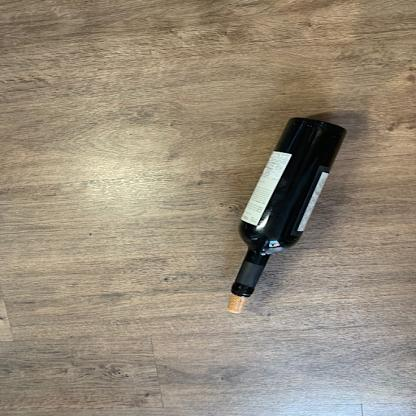trash: (216, 114, 348, 300)
